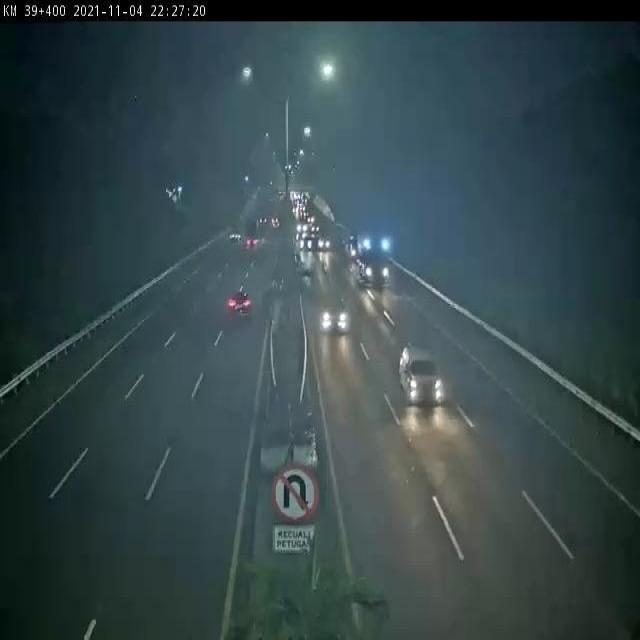car: (398, 346, 444, 406), (321, 294, 349, 334), (227, 289, 255, 319)
truck-m-: (350, 233, 389, 290)
